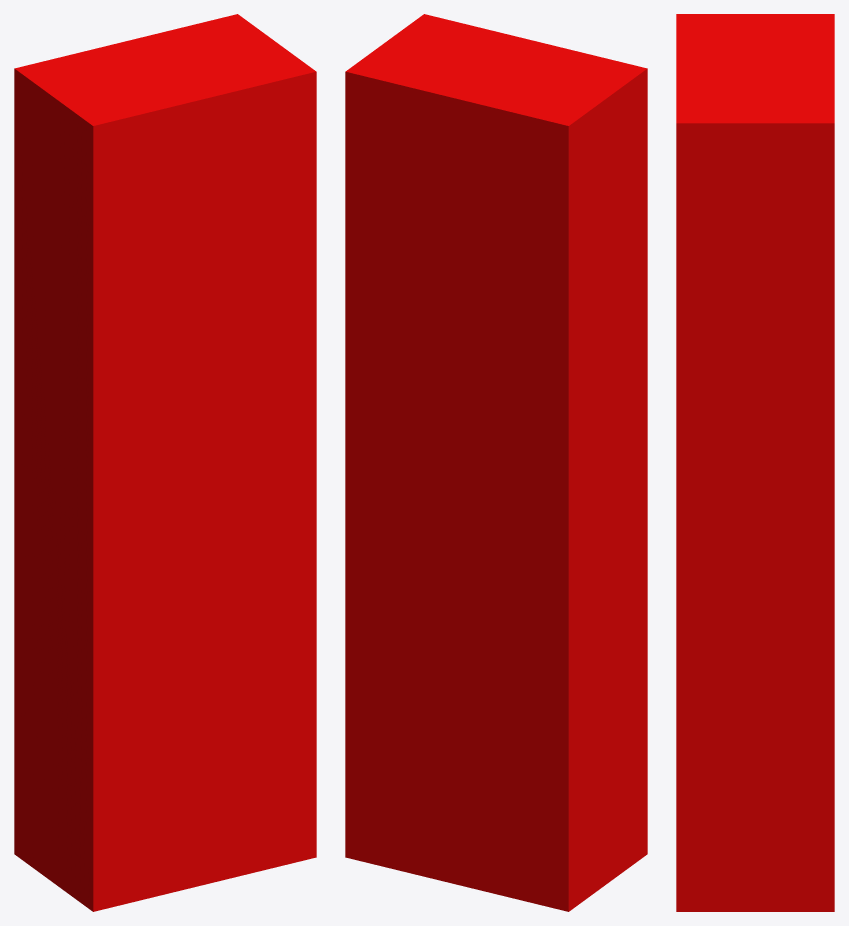
Rendered from skrinja+trigger.gltf.
3 renders of one model, left to right at view 1: azimuth 30°, elevation 25°; view 2: azimuth 150°, elevation 25°; view 3: azimuth 270°, elevation 25°, orthographic.
Parts seen in each view (by area): view 1: ChestTrigger; view 2: ChestTrigger; view 3: ChestTrigger.
Boxes of the visible parts, x1,y1,x2,y2 form: ChestTrigger: (14,14,316,911); ChestTrigger: (345,14,647,911); ChestTrigger: (676,14,834,911).
Size of what is drawn, in the model's own units: 5.19 by 17.46 by 3.17.
3 materials, 3 textured.
